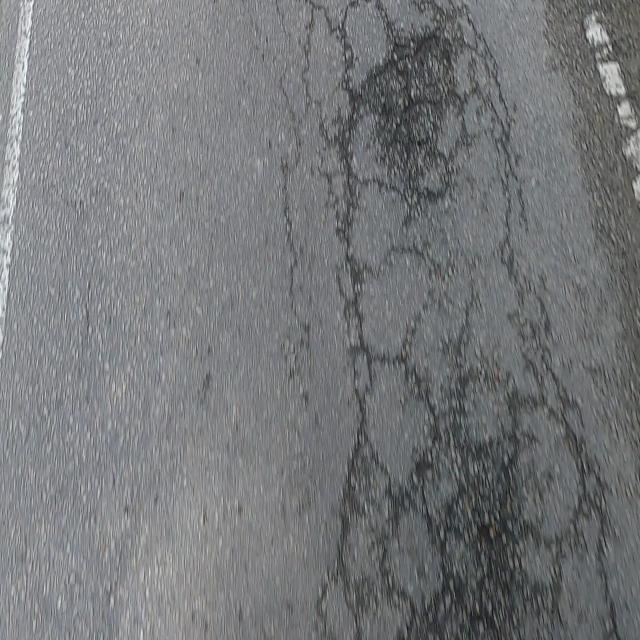Retak-Buaya: (302, 0, 625, 640)
Retak-Memanjang: (278, 82, 309, 339)
